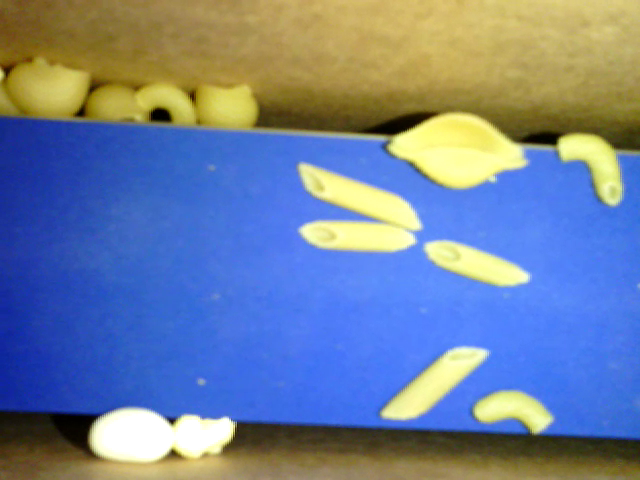elbow: (555, 133, 623, 205), (475, 387, 554, 434), (135, 80, 202, 126)
penne: (374, 345, 489, 421), (298, 161, 422, 231), (423, 238, 533, 288), (298, 217, 417, 252)
shell: (381, 110, 529, 192), (5, 56, 93, 118), (193, 80, 264, 130), (84, 82, 153, 127)
